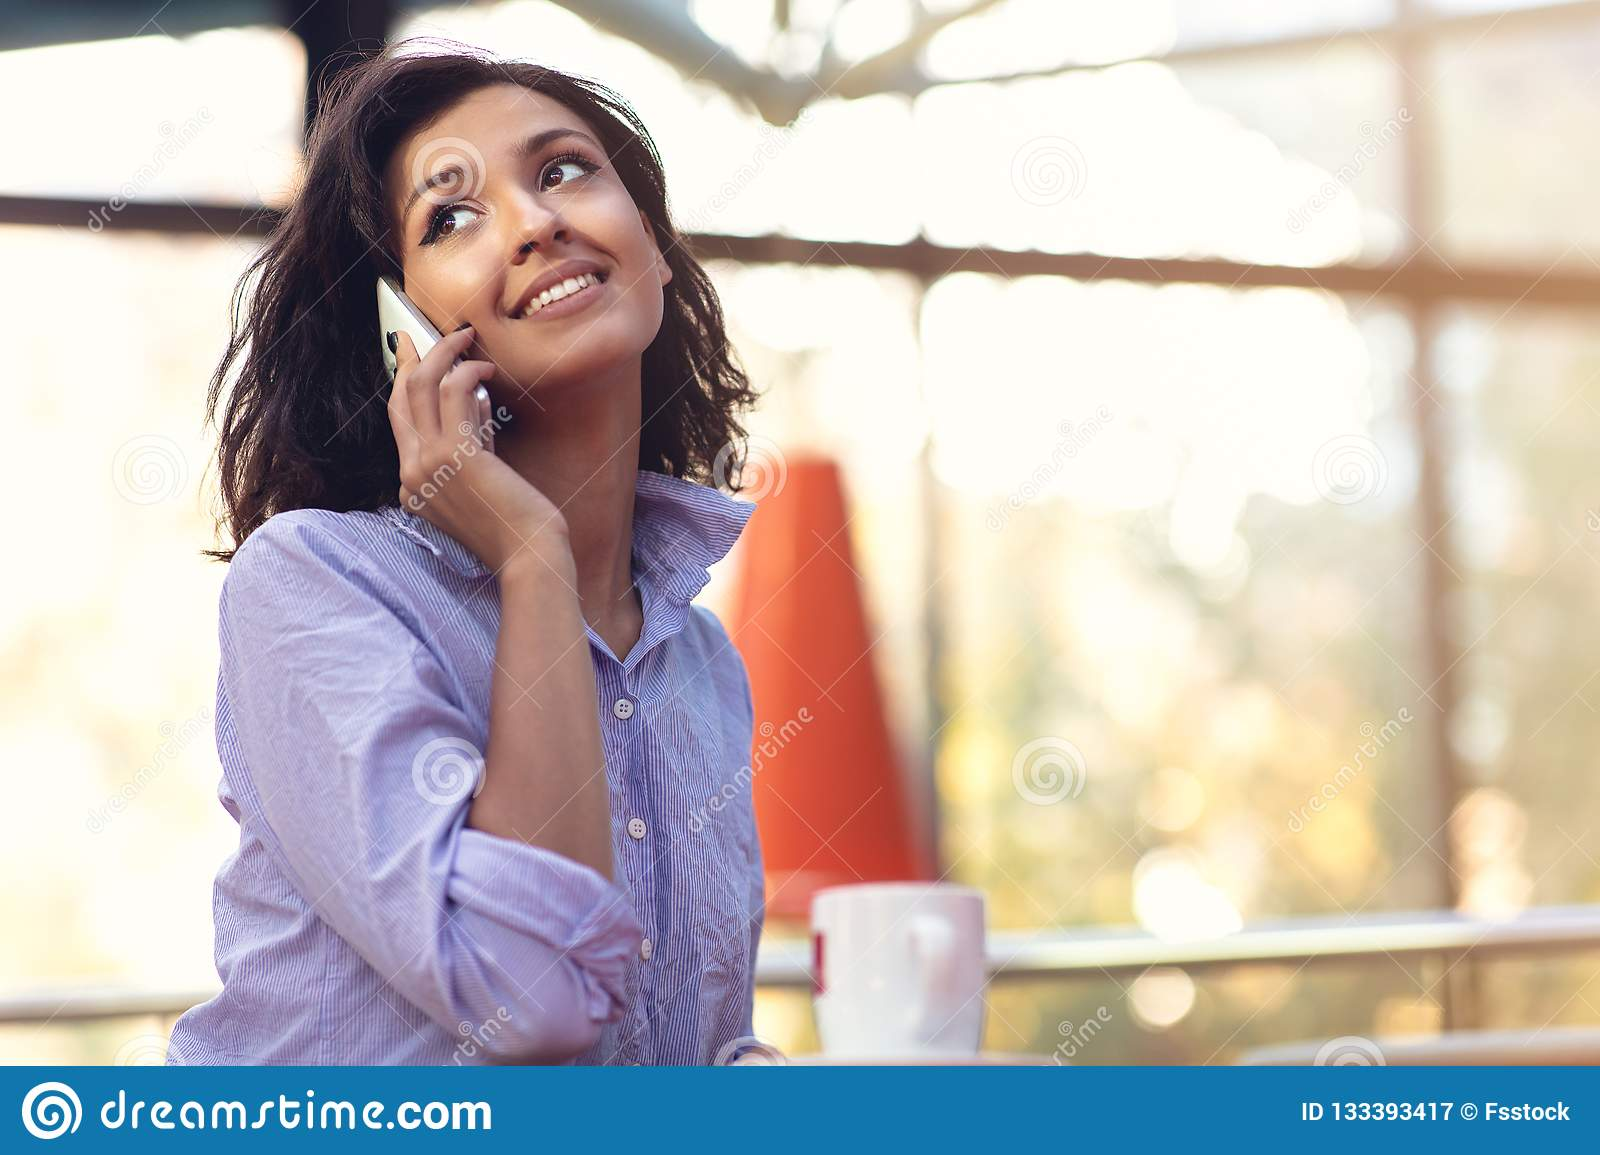phone: (369, 271, 499, 463)
talk: (368, 125, 667, 560)
